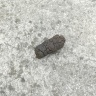Dog: (34, 34, 65, 60)
